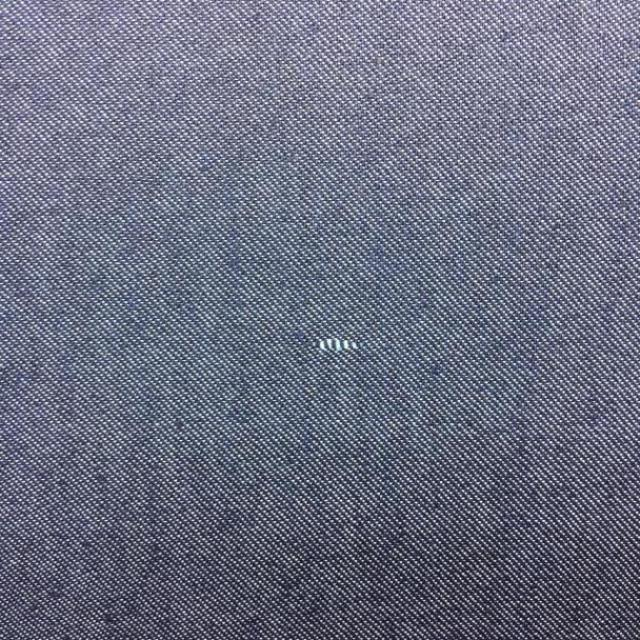Knot: (319, 338, 363, 352)
